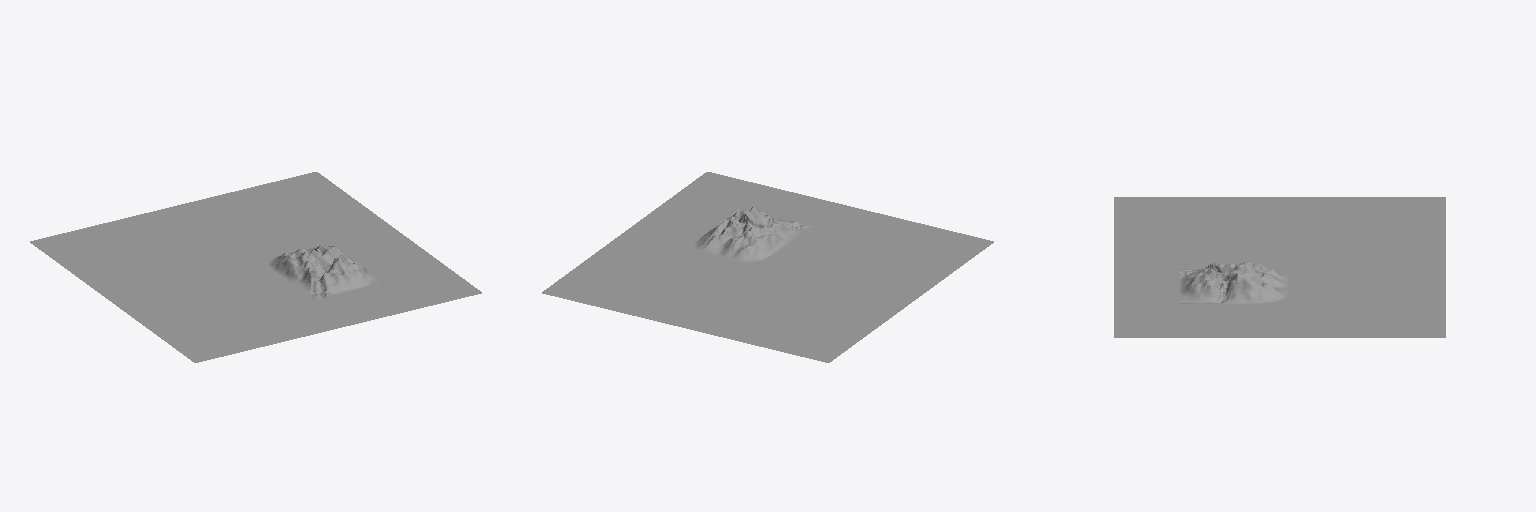
File: mount1.obj
3 views of the same model, side by side, from view 1: azimuth 30°, elevation 25°; view 2: azimuth 150°, elevation 25°; view 3: azimuth 270°, elevation 25° (orthographic).
Parts seen in each view (by area): view 1: Landscape.001; view 2: Landscape.001; view 3: Landscape.001.
Boxes of the visible parts, box(x1,y1,x2,y2) form: Landscape.001: box(30, 172, 481, 362); Landscape.001: box(542, 172, 993, 362); Landscape.001: box(1114, 197, 1445, 337).
Size of the model in its own units: 25.51 by 1.93 by 25.51.